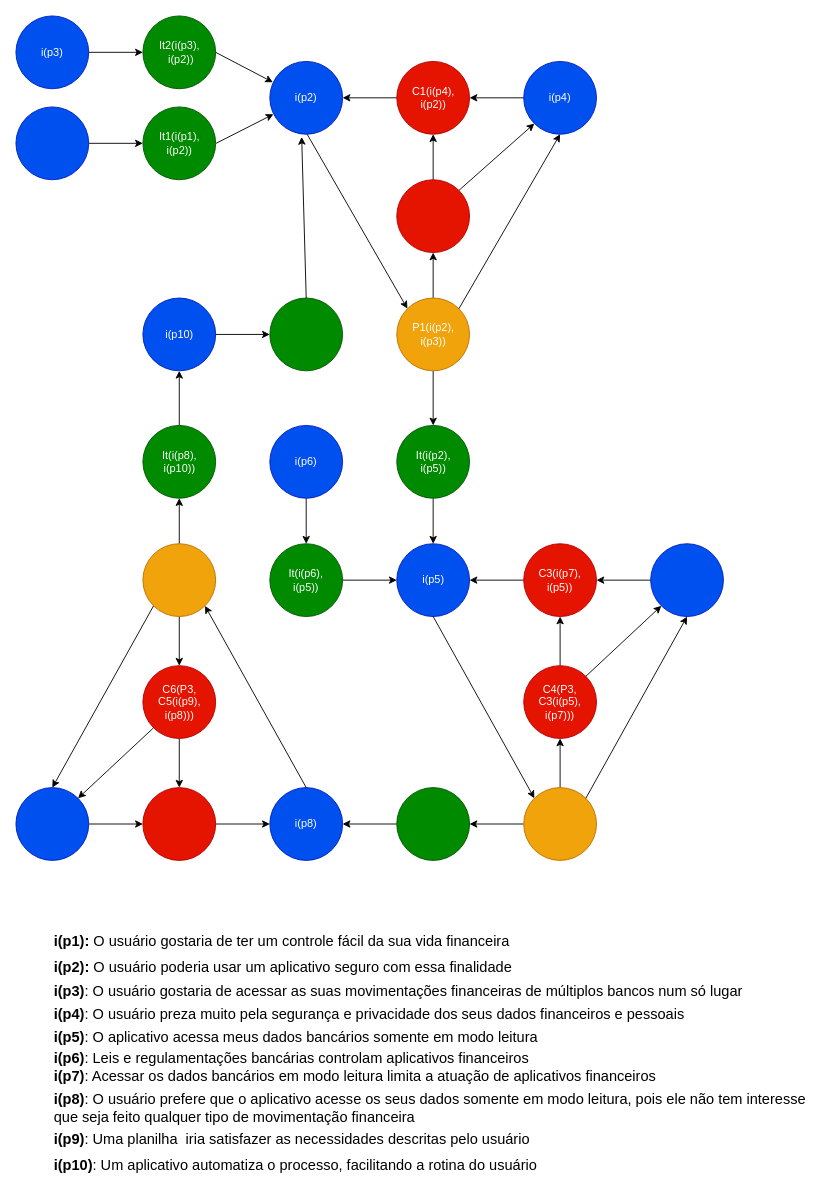
This 834x1190 diagram has some shape labels left out. The box of each missing label's shape, as (x1, y1, x2, y2) in pixels:
C2(P1, C1(i(p4), i(p2))): (396, 179, 470, 253)
C5(i(p9), i(p8)): (142, 787, 216, 860)
i(p1): (15, 106, 89, 180)
i(p7): (650, 543, 723, 617)
i(p9): (15, 787, 89, 860)
It(i(p10), i(p2)): (269, 297, 343, 371)
It(i(p5), i(p8)): (396, 787, 470, 860)
P2(i(p5), i(p7)): (523, 787, 597, 860)
P3(i(p8), i(p9)): (142, 543, 216, 617)
